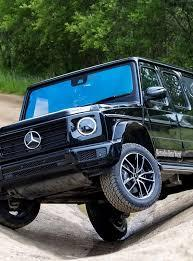mercedes: (20, 127, 43, 151)
